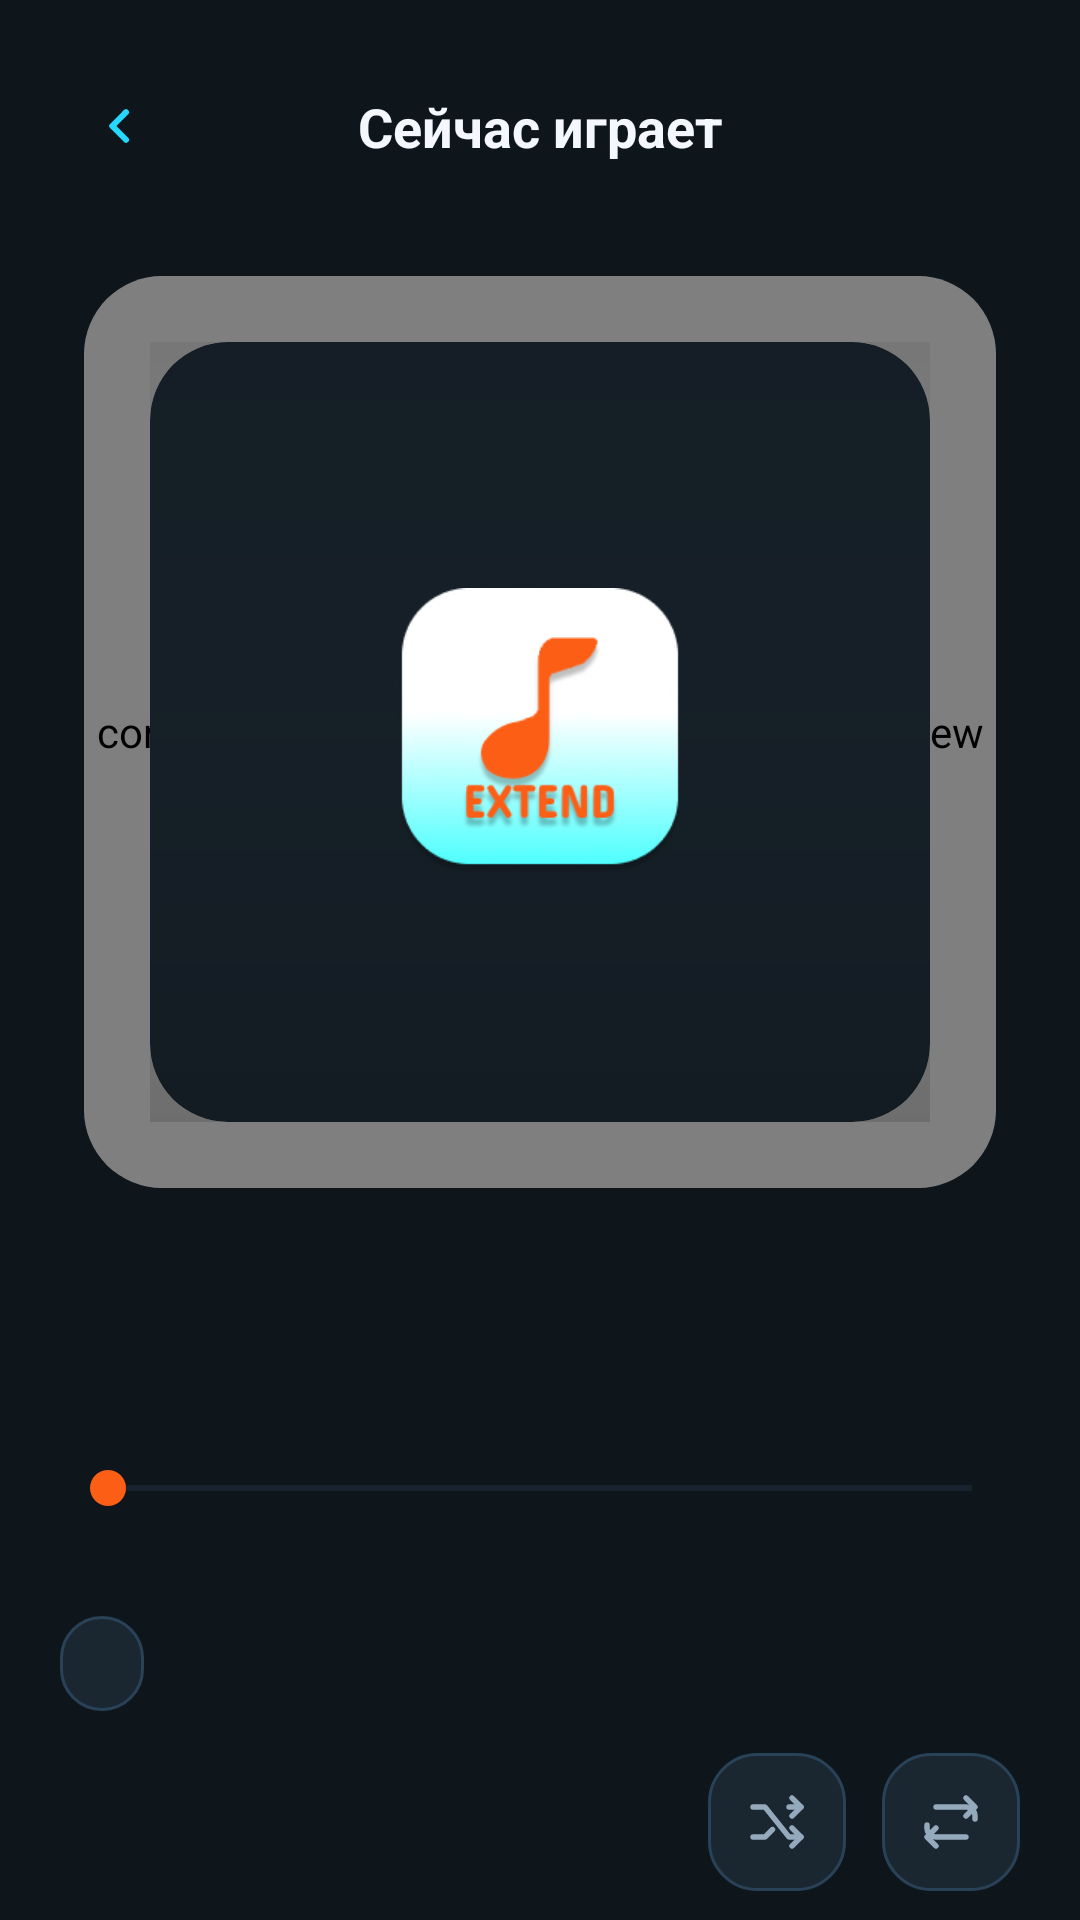

Point at icon controls on the screen. Image size 1080 x 1920, points as (x,y).
Назад: (119,126)
Повтор трека: (951,1822)
Случайный порядок: (777,1822)
